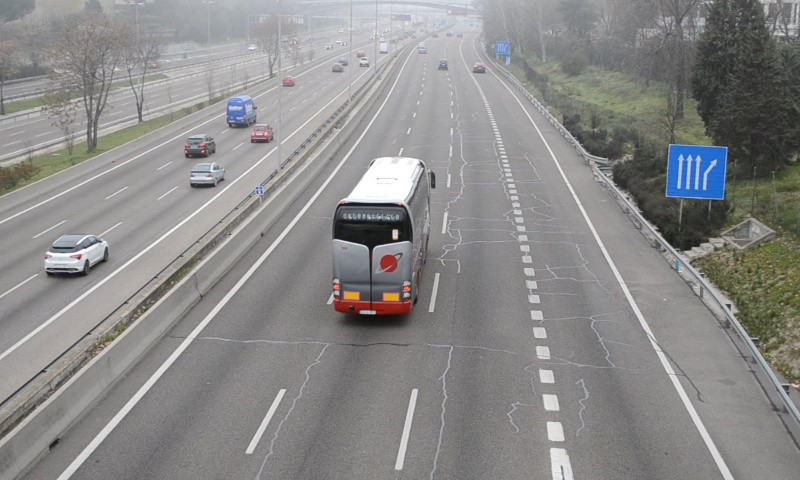bus: (328, 156, 429, 318)
car: (472, 61, 486, 74)
